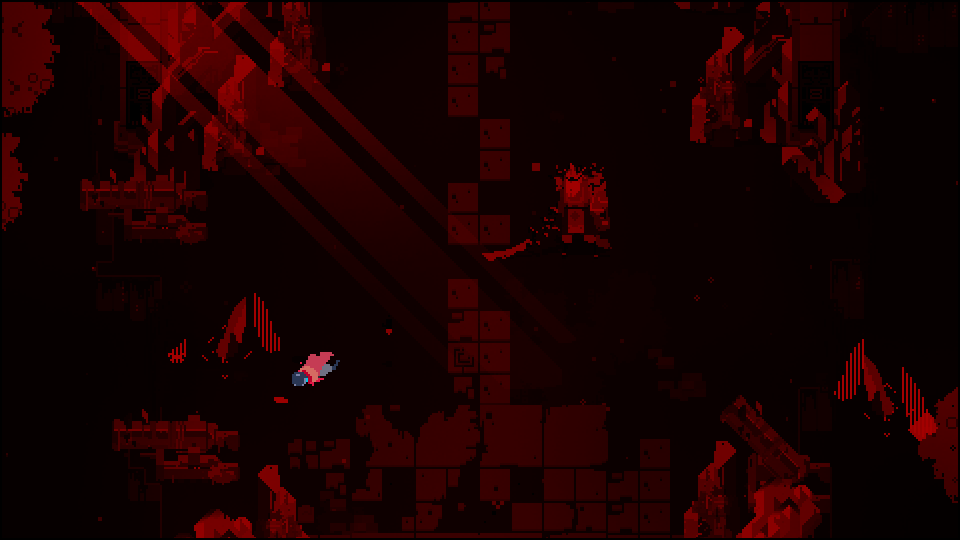player: (287, 349, 344, 386)
